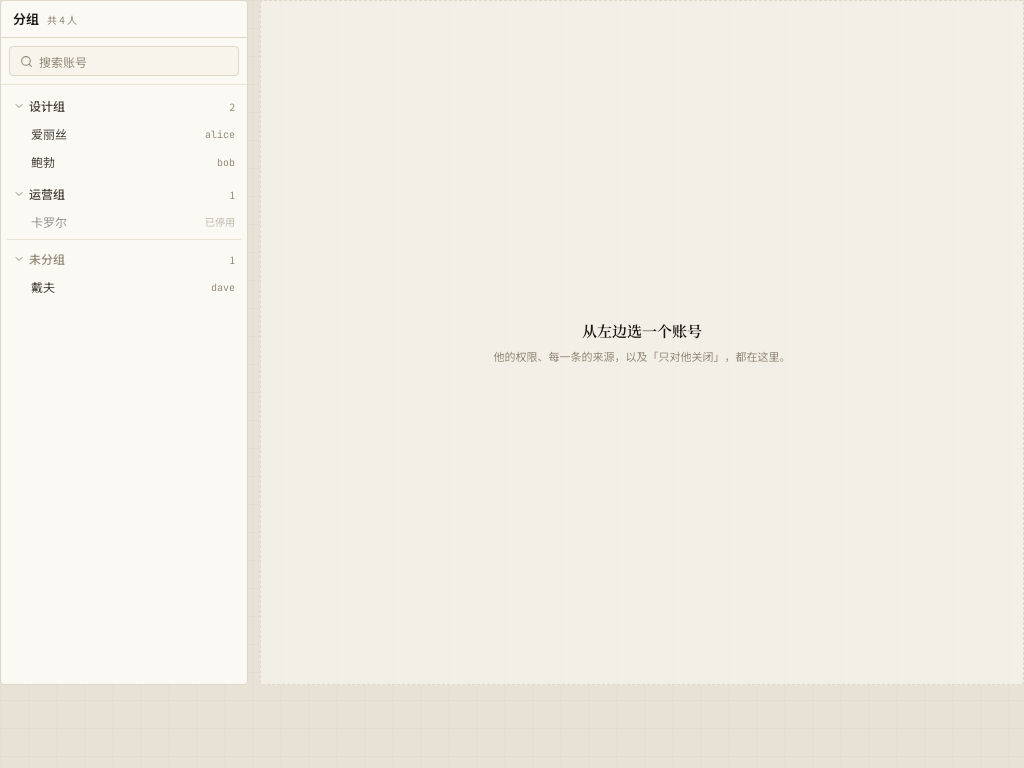
Test: PermissionsSection：左树选人，右侧看权限 › 搜不到时给一句明确的话
Type "zzz不存在" into the search field labelled "搜索账号". click: (134, 61)
box: [39,47,228,75]
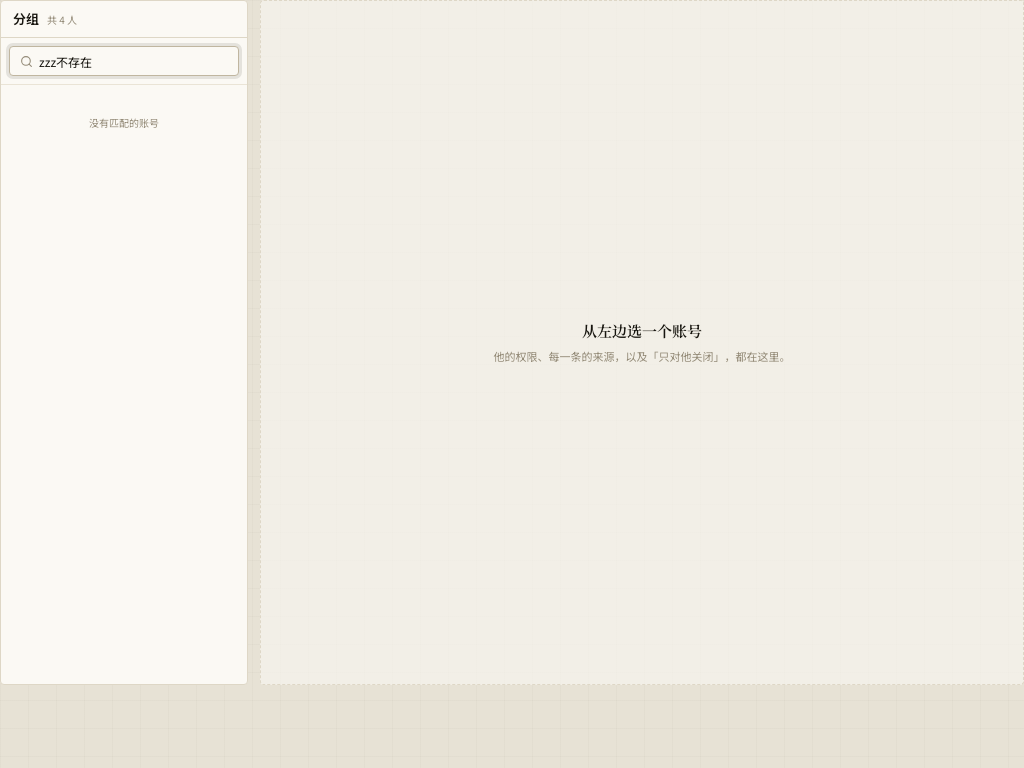
Check: the text "没有匹配的账号" is shown, box [89,115,159,130]
